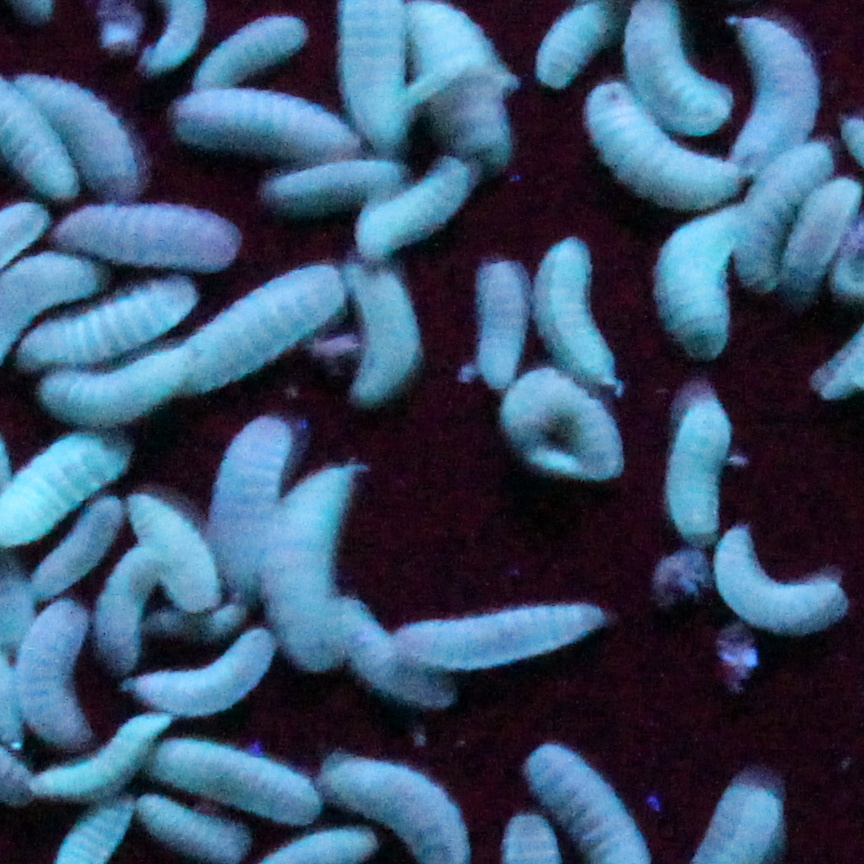larve: (581, 74, 749, 210), (192, 267, 340, 396), (271, 460, 360, 674), (3, 281, 196, 371), (715, 521, 856, 640), (328, 587, 449, 724), (533, 231, 628, 399), (153, 735, 326, 826), (506, 367, 633, 485), (17, 74, 140, 190), (733, 3, 817, 169), (342, 249, 428, 410), (215, 415, 287, 603), (399, 606, 606, 671), (12, 592, 96, 749), (65, 196, 242, 269), (119, 494, 224, 617), (126, 635, 267, 724), (653, 210, 740, 353), (10, 506, 133, 606), (733, 146, 824, 281), (181, 85, 356, 153), (24, 724, 167, 806), (31, 351, 203, 419), (351, 162, 469, 260), (660, 387, 733, 544), (194, 10, 310, 78), (149, 792, 251, 862), (478, 249, 524, 403), (96, 531, 144, 669), (278, 153, 417, 196)
